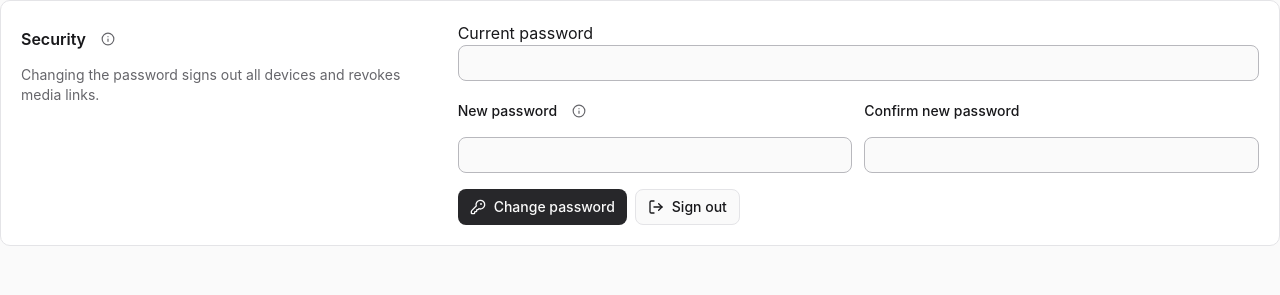
password form trims outer spaces before confirming and submitting
The width and height of the screenshot is (1280, 295).
In the password field labelled "Current password": (858, 63) x1=458 y1=45 x2=1259 y2=81, type " old password "
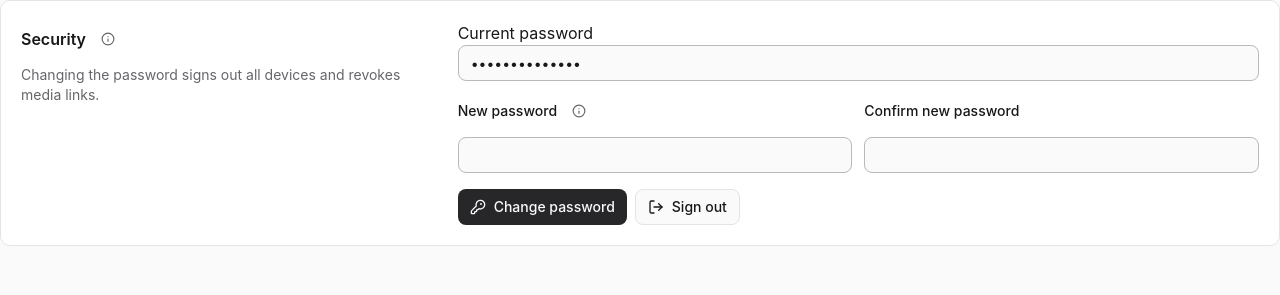
In the password field labelled "New password": (655, 155) x1=458 y1=137 x2=852 y2=173, type " new password long "
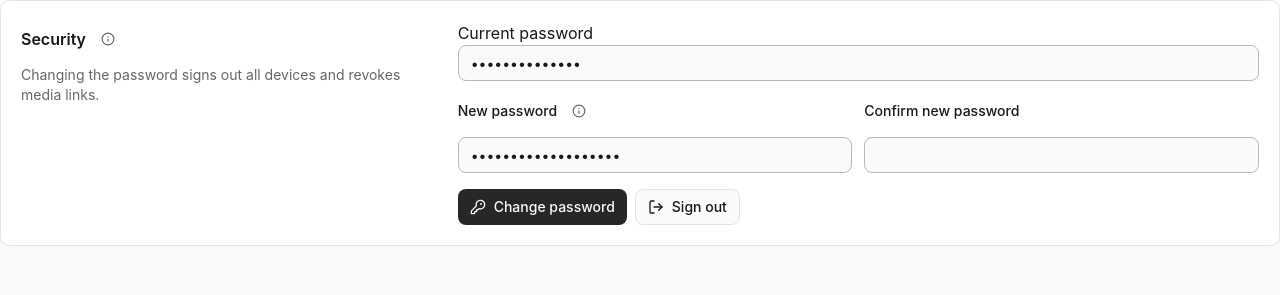
In the password field labelled "Confirm new password": (1062, 155) x1=864 y1=137 x2=1259 y2=173, type "different"
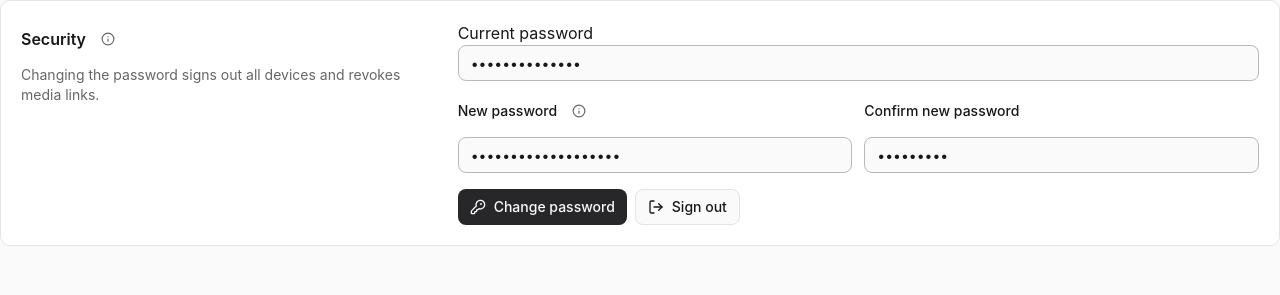
Click the button "Change password": (542, 207) x1=458 y1=189 x2=627 y2=225
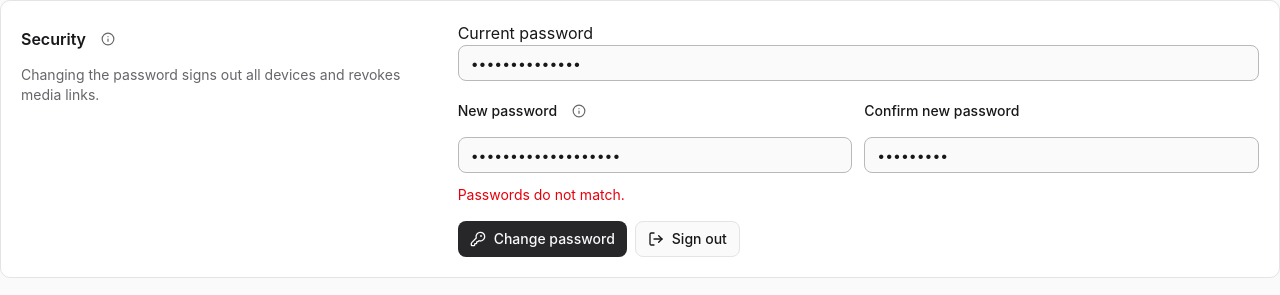
Expected: the text "Passwords do not match." is shown, x1=458 y1=186 x2=625 y2=203
In the password field labelled "Confirm new password": (1062, 155) x1=864 y1=137 x2=1259 y2=173, type "new password long"
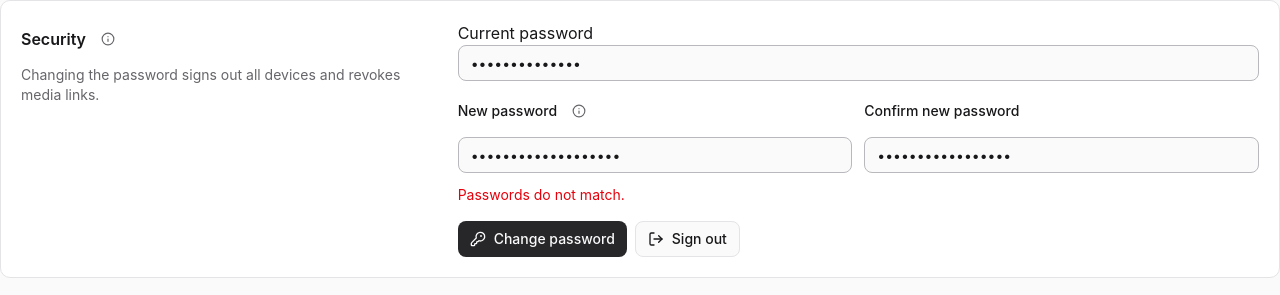
Click the button "Change password": (542, 239) x1=458 y1=221 x2=627 y2=257
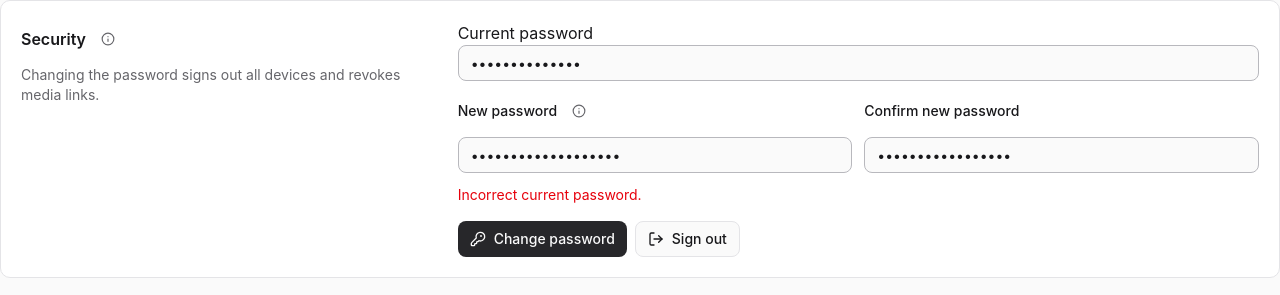
Expected: the text "Incorrect current password." is shown, x1=458 y1=186 x2=642 y2=203
